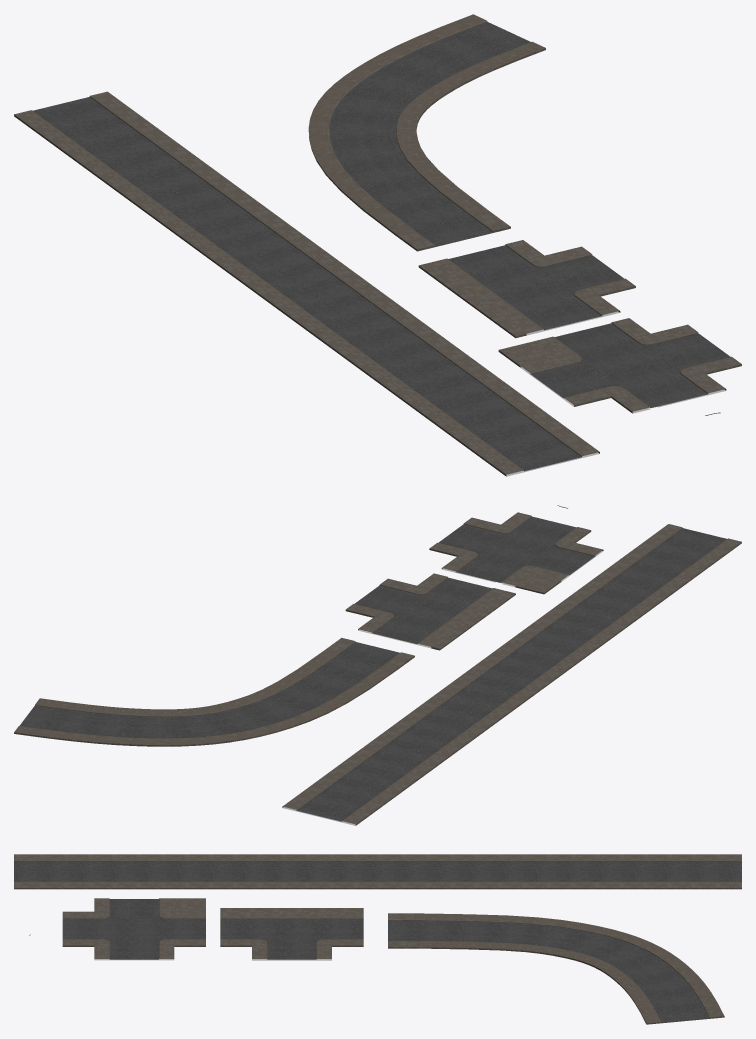
File: roads.glb
The picture shows the model from 3 angles, top to bottom: view 1: azimuth 30°, elevation 25°; view 2: azimuth 150°, elevation 25°; view 3: azimuth 270°, elevation 25°; orthographic projection. The views are drawn at different scales.
Parts seen in each view (by area): view 1: Object_4.146, Object_4.065, Object_3.018, Object_3.014, Object_3.019, Object_3.015, Object_3.017, Object_4.006, Object_4.042, Object_4.073; view 2: Object_4.146, Object_4.065, Object_3.018, Object_3.014, Object_3.015, Object_3.019, Object_3.017, Object_4.006, Object_4.042; view 3: Object_4.146, Object_4.065, Object_3.014, Object_3.018, Object_3.015, Object_3.019, Object_3.017, Object_4.006, Object_4.042, Object_4.073, Object_3.021, Object_3.020 (+1 smaller).
Boxes of the visible parts, x1,y1,x2,y2 form: Object_4.146: (14, 91, 599, 476); Object_4.065: (308, 14, 545, 251); Object_3.018: (554, 323, 707, 407); Object_3.014: (448, 245, 601, 329); Object_3.019: (661, 333, 730, 365); Object_3.015: (555, 255, 624, 287); Object_3.017: (530, 365, 599, 397); Object_4.006: (419, 263, 525, 336); Object_4.042: (451, 274, 520, 317); Object_4.073: (499, 341, 556, 365); Object_4.146: (282, 524, 741, 825); Object_4.065: (14, 637, 414, 746); Object_3.018: (456, 516, 575, 582); Object_3.014: (372, 577, 492, 643); Object_3.015: (354, 585, 408, 610); Object_3.019: (438, 524, 492, 549); Object_3.017: (541, 549, 594, 574); Object_4.006: (431, 591, 515, 648); Object_4.042: (436, 600, 489, 634); Object_4.146: (14, 854, 741, 889); Object_4.065: (388, 913, 724, 1024); Object_3.014: (220, 919, 363, 939); Object_3.018: (62, 919, 205, 939); Object_3.015: (267, 946, 316, 959); Object_3.019: (109, 946, 158, 959); Object_3.017: (109, 899, 158, 912); Object_4.006: (220, 908, 363, 911); Object_4.042: (252, 912, 331, 917); Object_4.073: (174, 898, 205, 911); Object_3.021: (107, 939, 161, 946); Object_3.020: (102, 912, 164, 918).
Size of the model in its own units: 89.37 by 0.4429 by 163.
4 materials, 3 textured.
